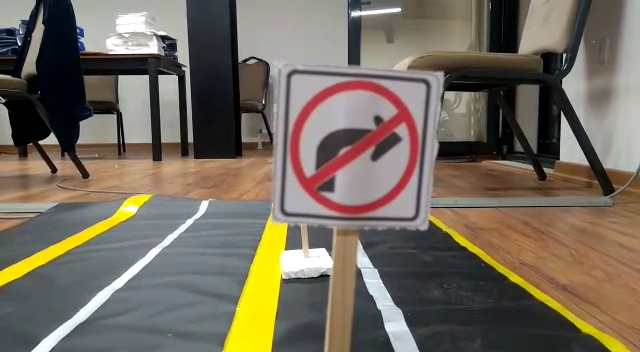saga_donulmez: (285, 73, 421, 217)
